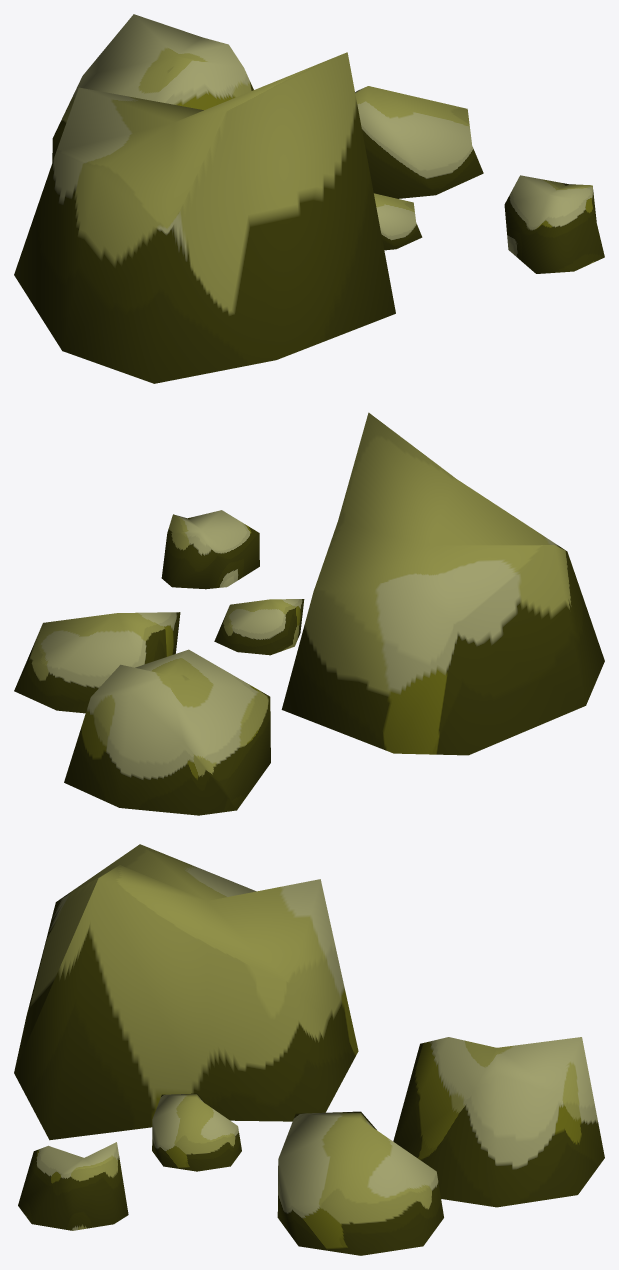
File: Rock 3x 3 5_preview_3DS_simplified.glb
3 renders of one model, top to bottom at view 1: azimuth 30°, elevation 25°; view 2: azimuth 150°, elevation 25°; view 3: azimuth 270°, elevation 25°, orthographic. The views are drawn at different scales.
Parts seen in each view (by area): view 1: Marine Park Empire model; view 2: Marine Park Empire model; view 3: Marine Park Empire model.
Boxes of the visible parts, <box> form: Marine Park Empire model: <box>14,14,604,383</box>; Marine Park Empire model: <box>14,412,604,815</box>; Marine Park Empire model: <box>14,844,604,1255</box>.
Size of the model in its own units: 95.89 by 46.96 by 94.09.
1 material, 1 textured.
